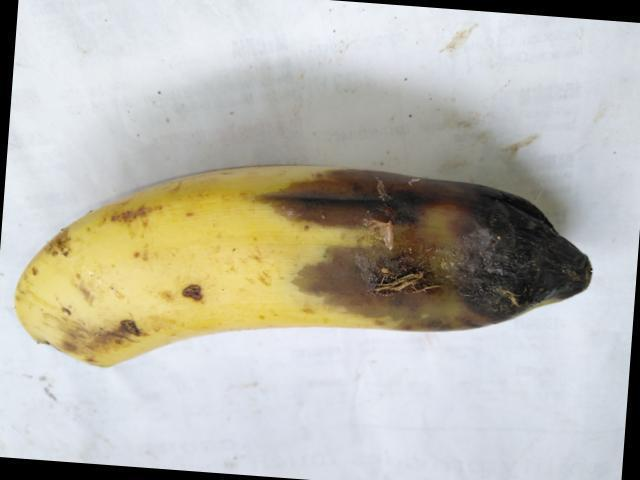rotten: (255, 146, 611, 349), (42, 304, 153, 385)
